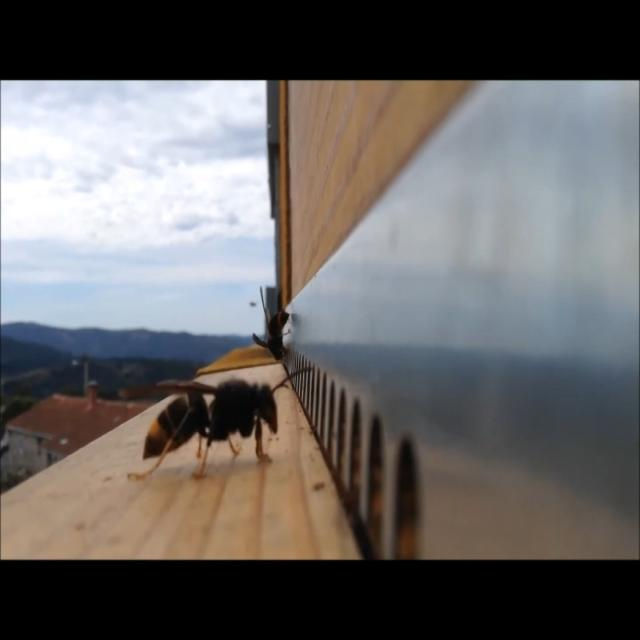Hornets: (117, 366, 316, 482), (251, 282, 292, 368)
